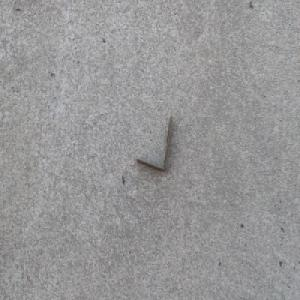MetalPart: (135, 113, 174, 175)
